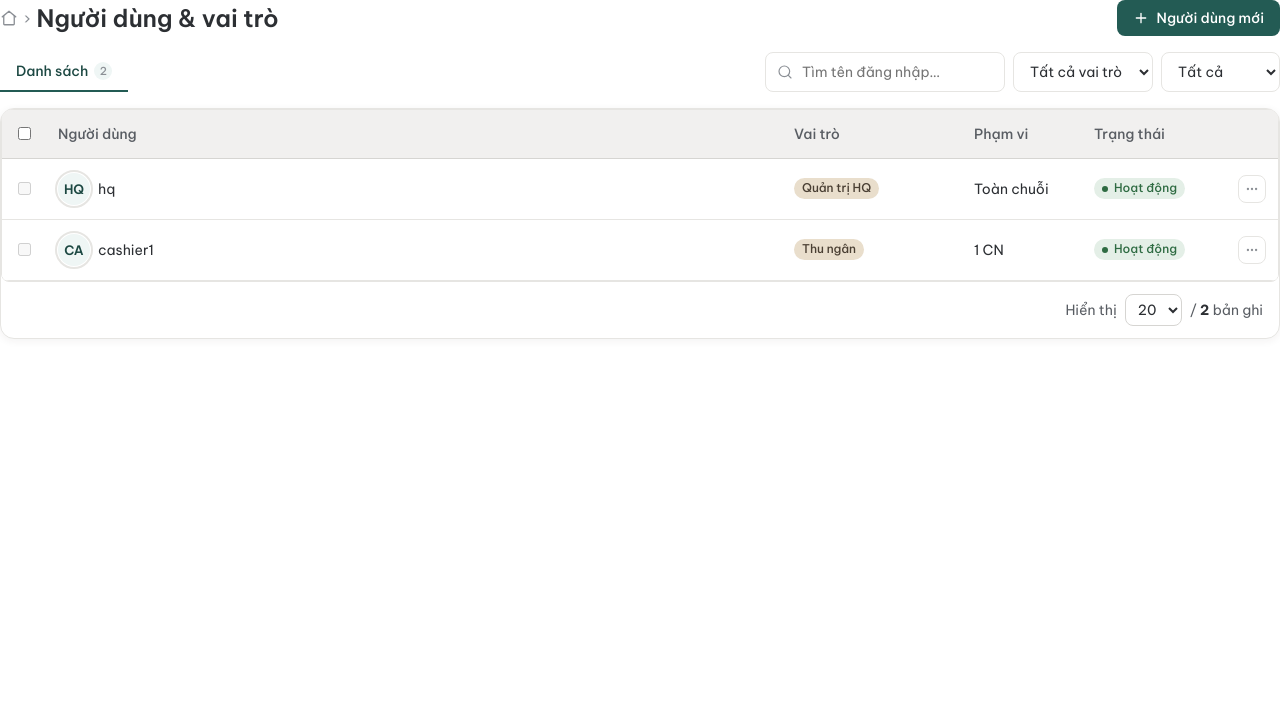
it: UsersPage › creates a user and reveals the one-time temp password
Expected: the text "cashier1" is shown, [98,240,154,258]
Click the button "Người dùng mới": (1198, 18) [1117,0,1279,36]
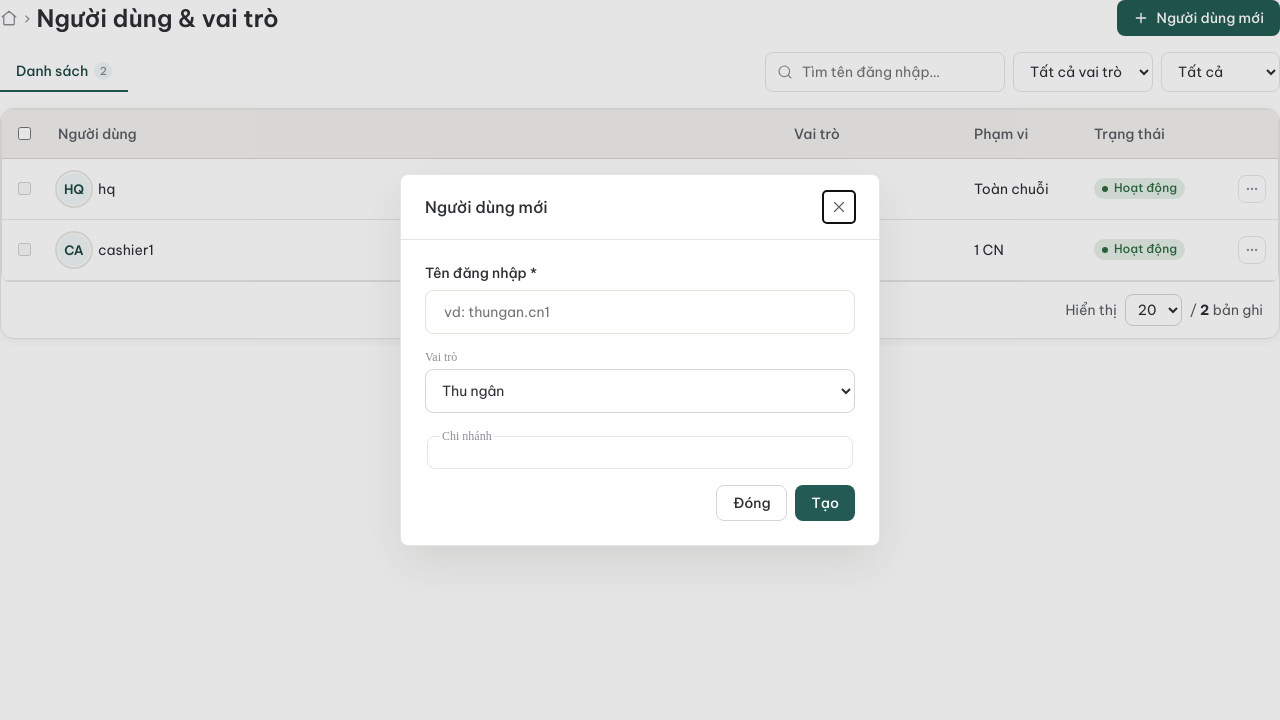
In the field labelled "Tên đăng nhập *": (640, 312) [442,291,838,333], type "newcashier"
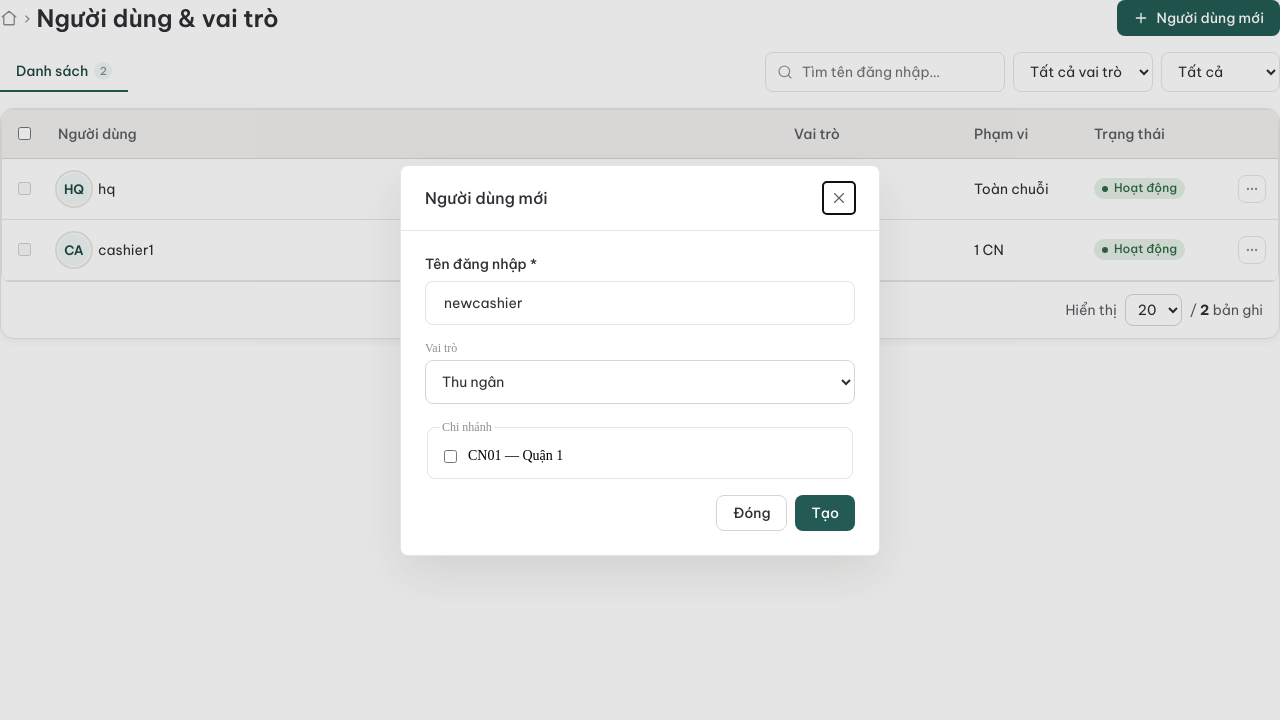
Expected: the checkbox named "Chi nhánh CN01" is shown
# THU_NGAN is default → needs a branch
Click the checkbox named "Chi nhánh CN01": (450, 456) [444,450,457,462]
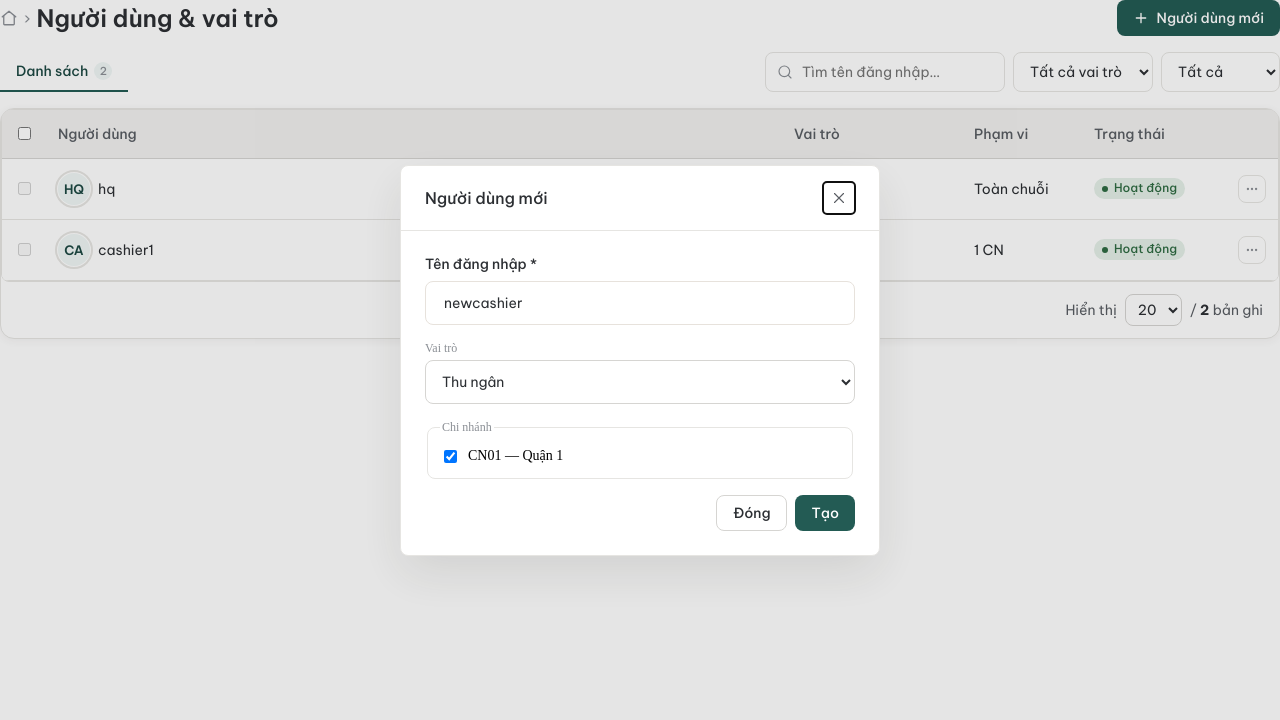
Click the button "Tạo": (825, 512) [796,494,855,530]
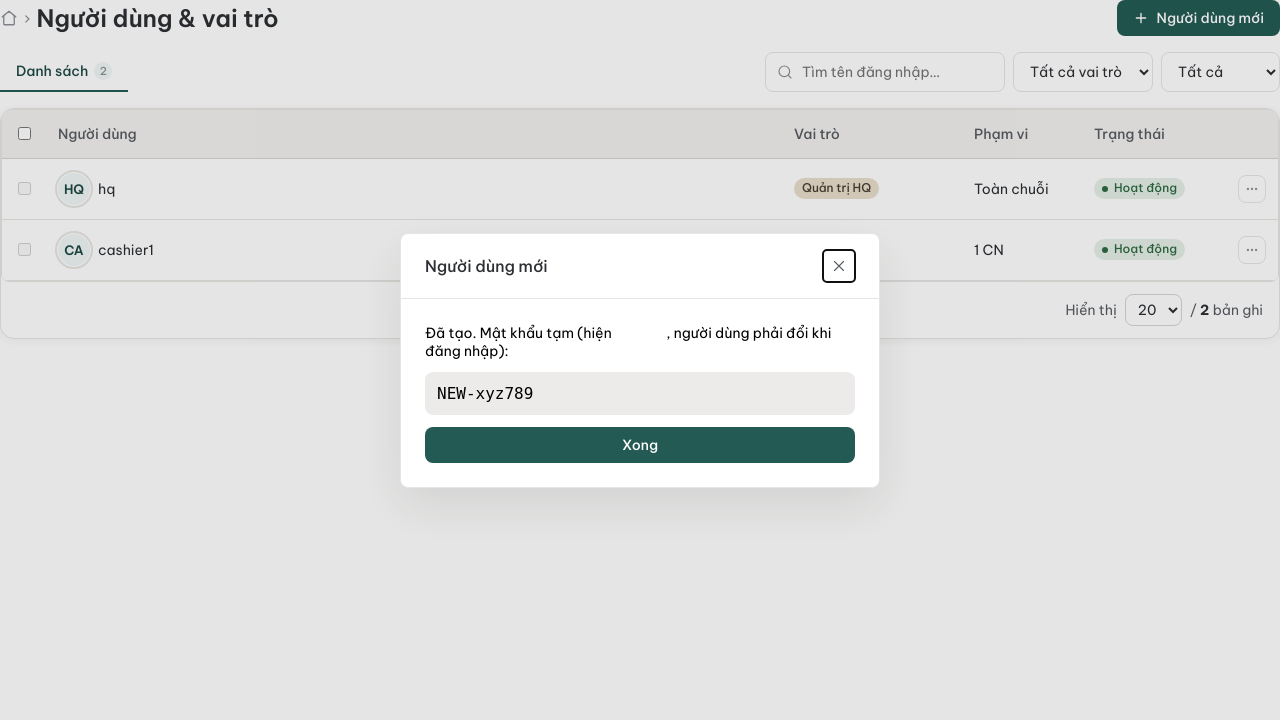
Expected: the text "NEW-xyz789" is shown, [425,372,855,414]
